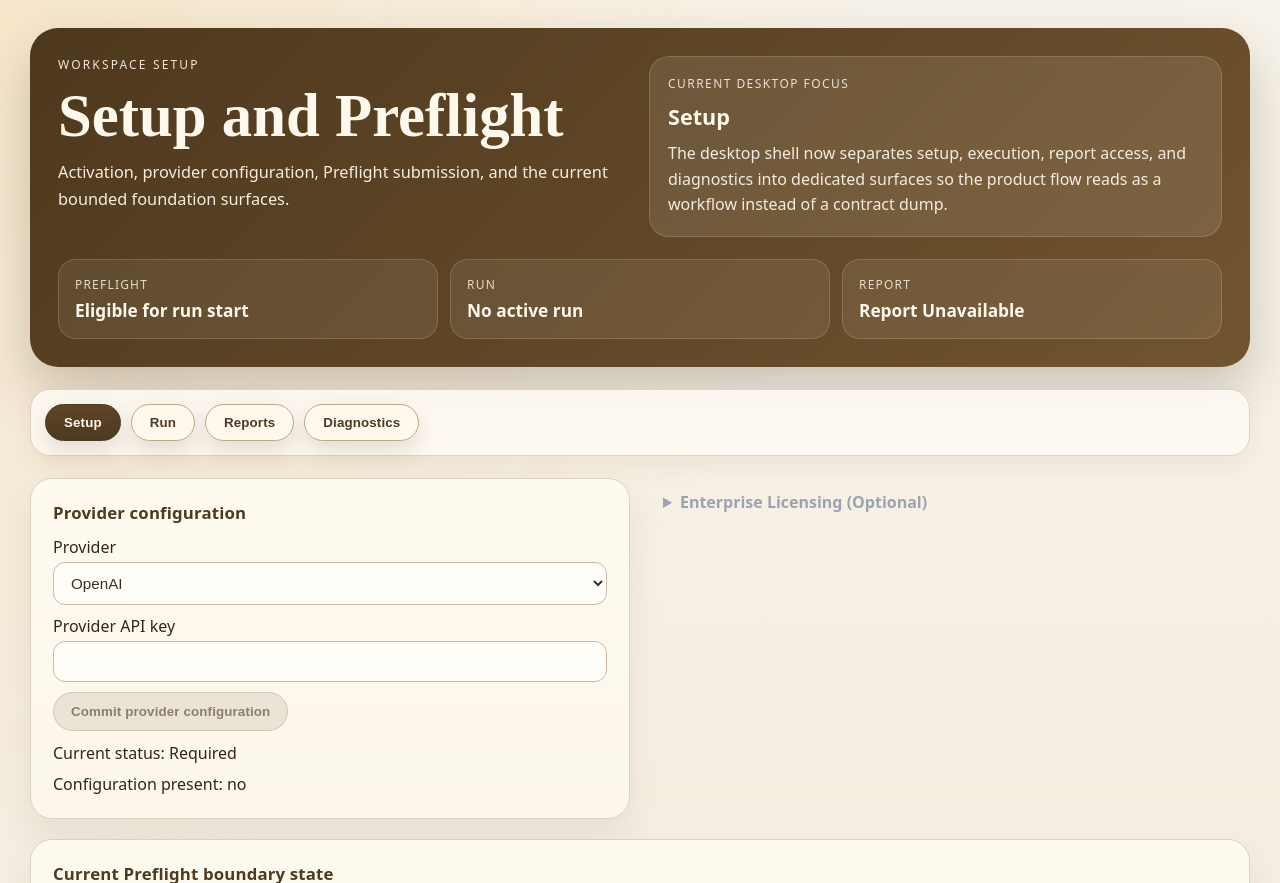
Test: App Preflight submission flow › renders execution failure truth when report generation fails after debate execution
The image size is (1280, 883).
What coordinates should you click on to do the following:
click the button "Run"
I would click on:
 (163, 422)
Its box is [131,404,195,441].
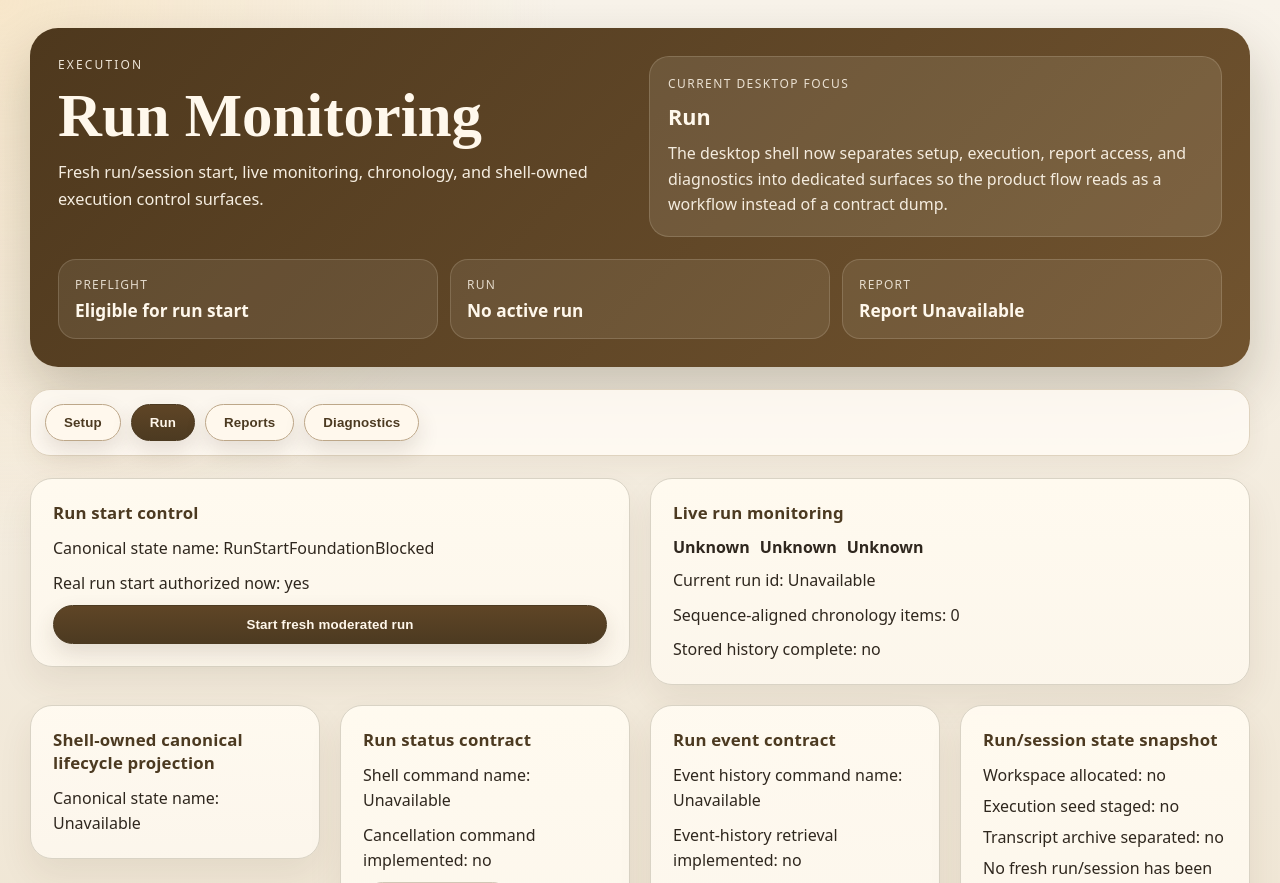
What coordinates should you click on to do the following:
click the button "Start fresh moderated run"
I would click on:
 (330, 625)
Its box is [53,605,607,644].
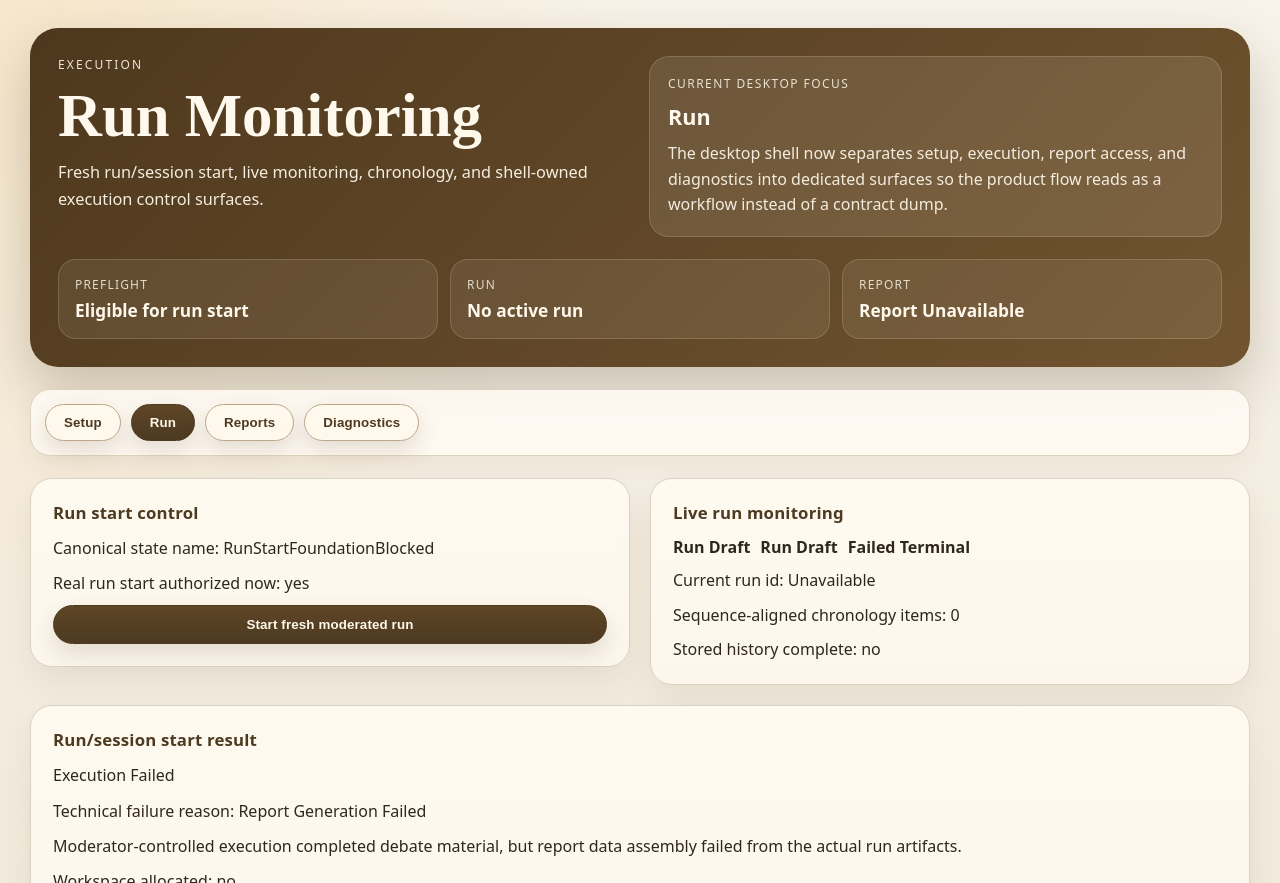
Now the heading "Run/session start result" is shown, box [53,728,257,751]
Now the text "Execution Failed" is shown, box [53,764,175,786]
Now the text "Technical failure reason: Report Generation Failed" is shown, box [53,800,426,822]
